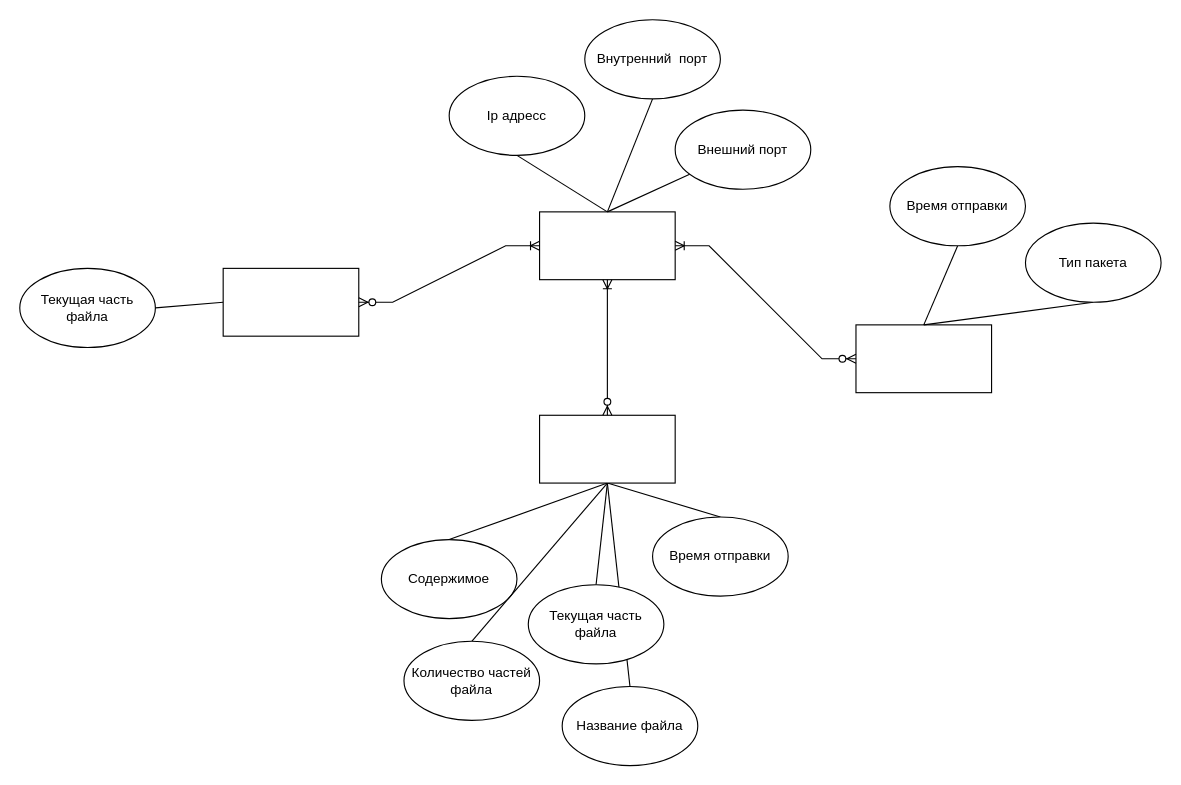
This 1181x785 diagram has some shape labels left out. Each missing label, with the centre of its shape:
Пакет подтверждения: point 290,301
Пользователи: point 606,245
Сообщение: point 923,358
Часть файла: point 606,448
